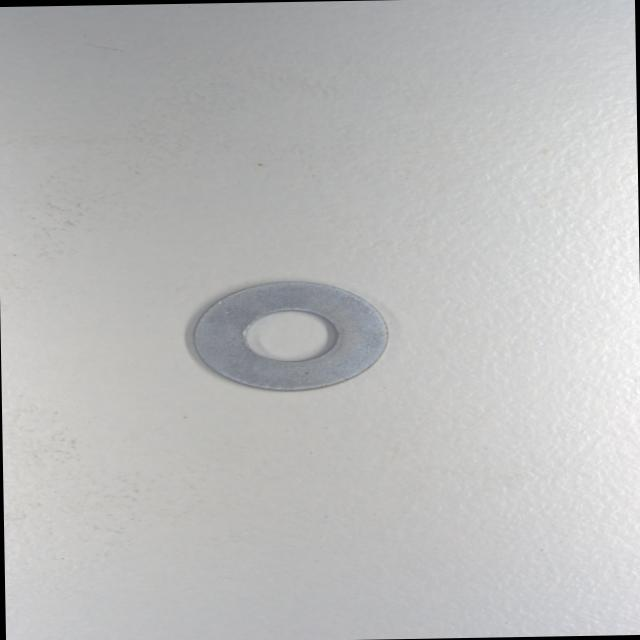washer: (190, 276, 394, 392)
